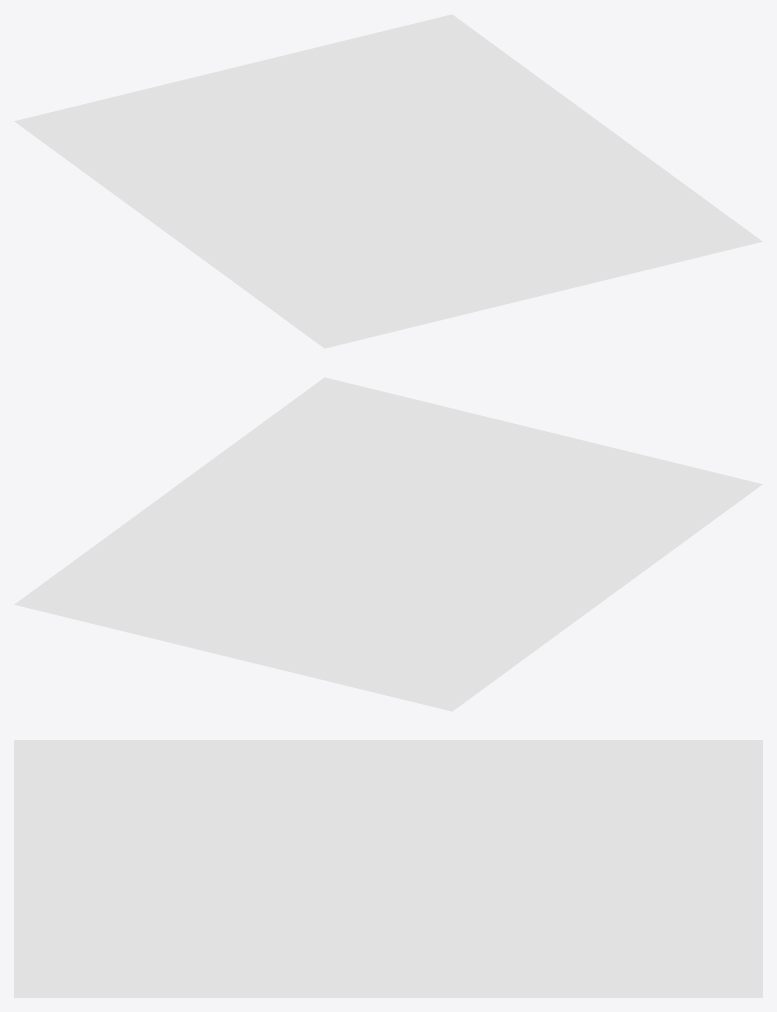
The model's file is jimennabi3.fbx.
3 views of the same model, one above another, from view 1: azimuth 30°, elevation 25°; view 2: azimuth 150°, elevation 25°; view 3: azimuth 270°, elevation 25° (orthographic). The views are drawn at different scales.
Visible parts, largest first — view 1: Plane001; view 2: Plane001; view 3: Plane001.
Part boxes in pixels (<box>): Plane001: <box>14,14,762,348</box>; Plane001: <box>14,377,762,711</box>; Plane001: <box>14,740,762,997</box>.
Bounding box in the file's own units: 6133 × 7529 × 1139.
1 material, 1 textured.
